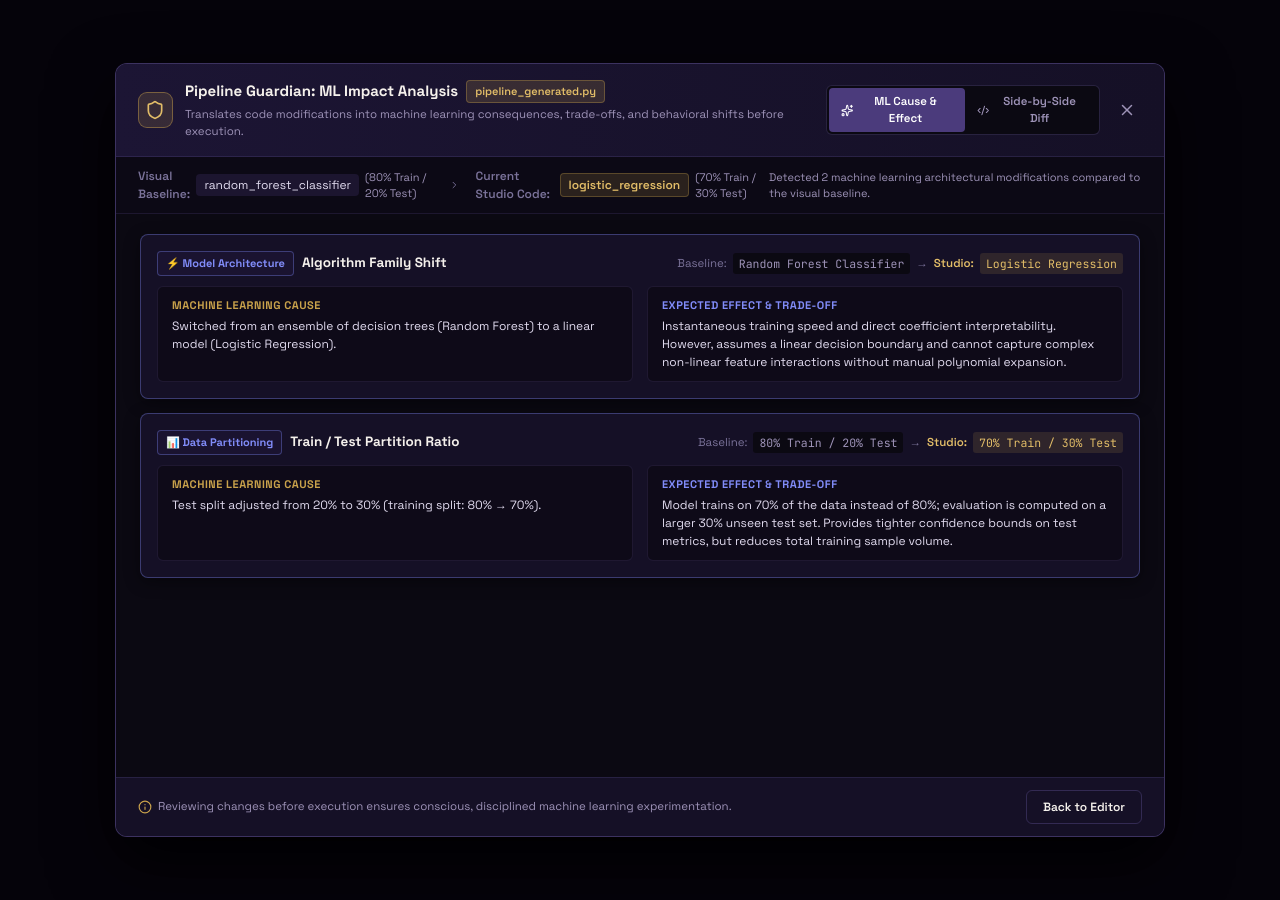
Day 5–6: Fast Python Checks & Pipeline Guardian › PipelineGuardianModal Component › allows toggling to the Side-by-Side Diff tab
What coordinates should you click on to do the following:
click the button "Side-by-Side Diff"
I would click on:
 (1031, 110)
Its box is [965,88,1097,132].
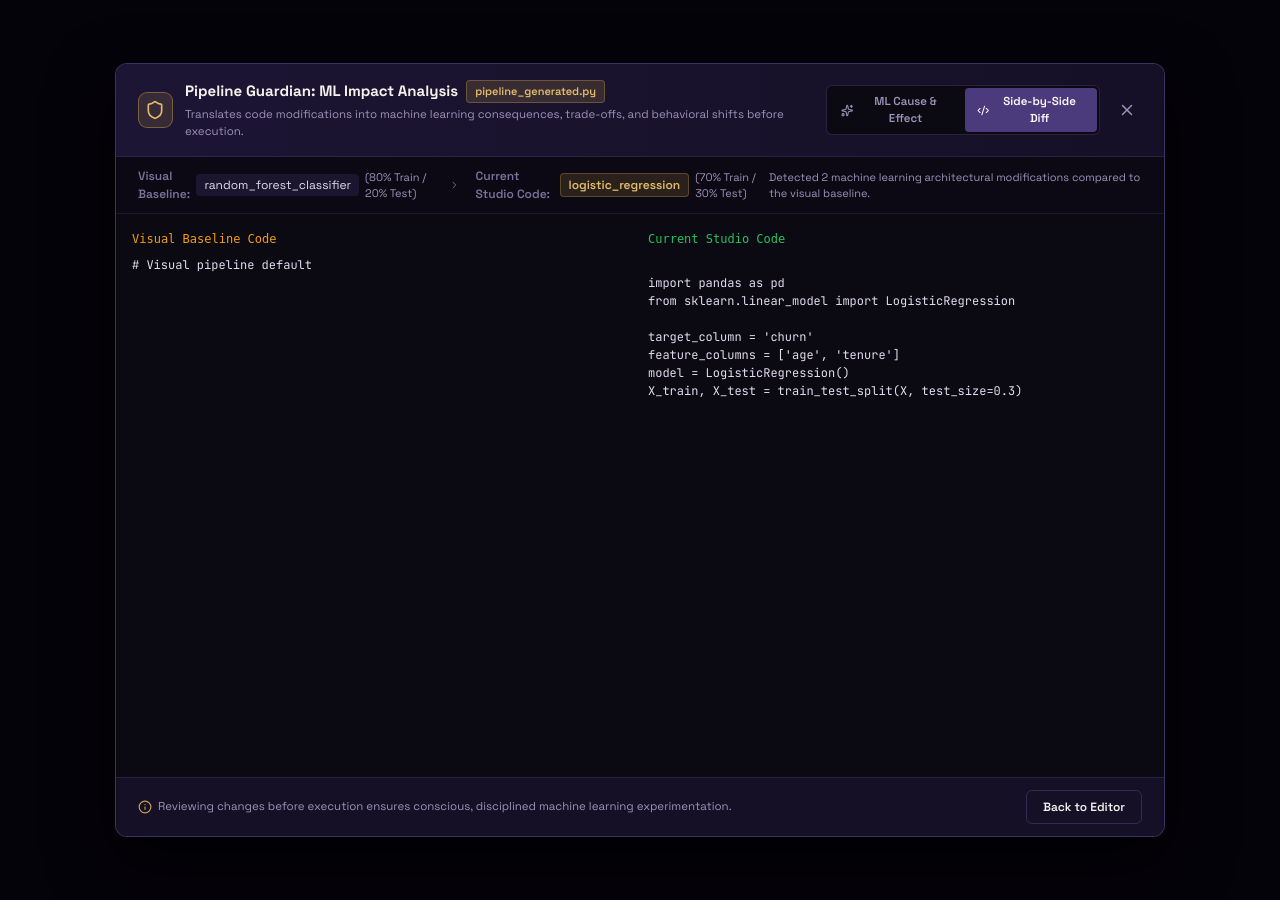
Expected: the element with test id "guardian-diff-fallback" is shown, [132,232,1022,399]
Expected: the heading "Visual Baseline Code" is shown, [132,232,276,246]
